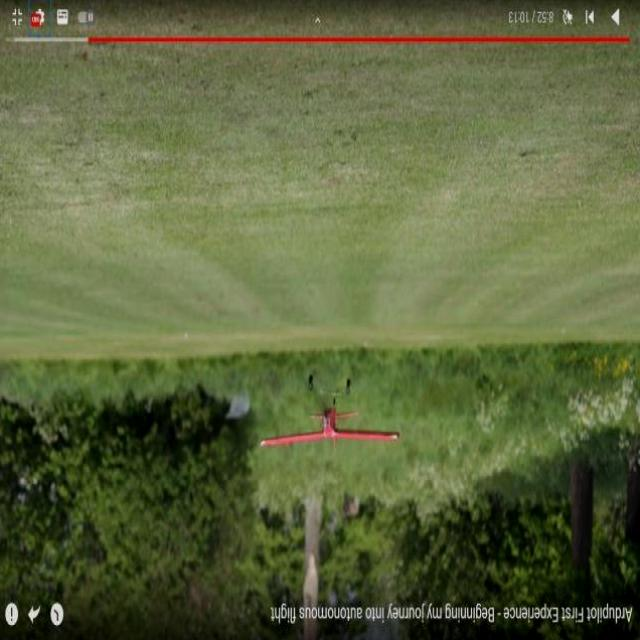plane: (258, 376, 402, 450)
